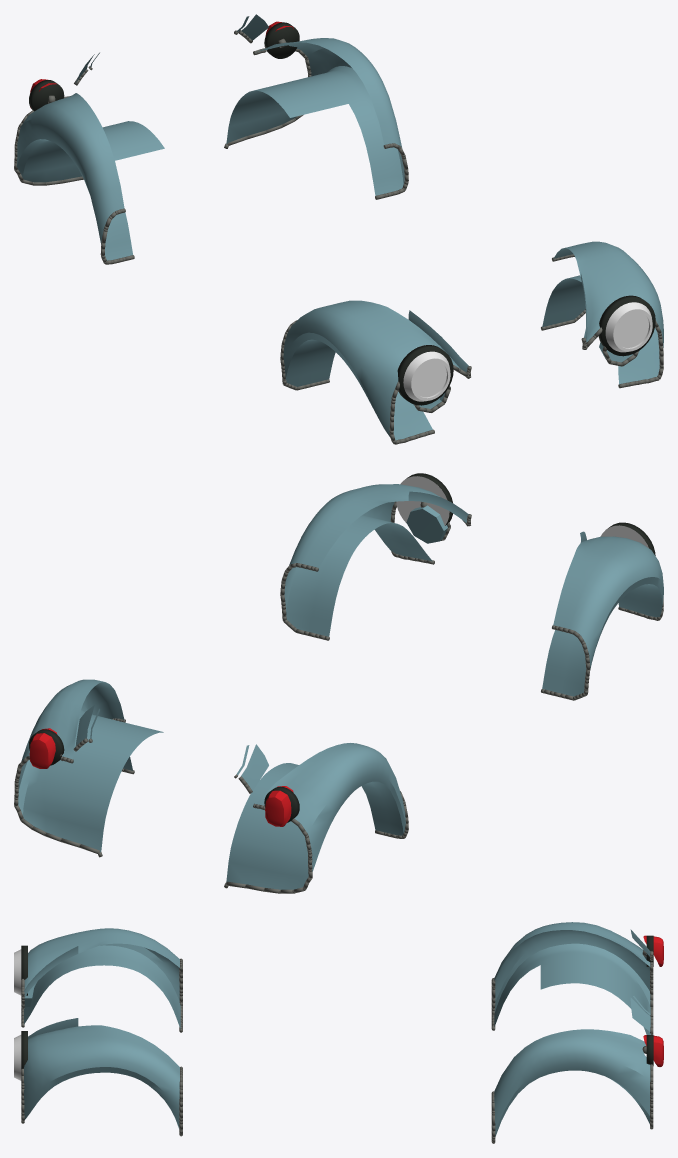
Rendered from PART_007_CutBajaFenders.glb.
The picture shows the model from 3 angles, top to bottom: view 1: azimuth 30°, elevation 25°; view 2: azimuth 150°, elevation 25°; view 3: azimuth 270°, elevation 25°; orthographic projection. The views are drawn at different scales.
Parts seen in each view (by area): view 1: BODY_BajaCut_Fender_FR_0, BODY_BajaCut_Fender_RL_0, BODY_BajaCut_Fender_RR_0, BODY_BajaCut_Fender_FL_0, EXTERIOR_BajaLamp_FL_1, EXTERIOR_BajaLamp_FR_1, EXTERIOR_BajaLamp_FR_0, EXTERIOR_BajaLamp_FL_0, EXTERIOR_BajaLampBucket_FL, EXTERIOR_BajaLampBucket_FR, EXTERIOR_BajaLampBucket_RL, TRIM_FenderEdge_FL_Front_0 (+2 smaller); view 2: BODY_BajaCut_Fender_RR_0, BODY_BajaCut_Fender_RL_0, BODY_BajaCut_Fender_FL_0, BODY_BajaCut_Fender_FR_0, EXTERIOR_BajaLamp_FL_1, TRIM_FenderEdge_RR_Back_0, TRIM_FenderEdge_RL_Back_0, EXTERIOR_BajaLamp_RR_1, EXTERIOR_BajaLamp_RL_1, TRIM_FenderEdge_FR_Back_0, TRIM_FenderEdge_FL_Back_0; view 3: BODY_BajaCut_Fender_RR_0, BODY_BajaCut_Fender_FL_0, BODY_BajaCut_Fender_RL_0, BODY_BajaCut_Fender_FR_0, EXTERIOR_BajaLamp_FR_1, EXTERIOR_BajaLamp_FL_1, EXTERIOR_BajaLamp_RL_1, TRIM_FenderEdge_RL_Back_0.
Boxes of the visible parts, box(x1,y1,x2,y2) form: BODY_BajaCut_Fender_FR_0: box(283, 300, 469, 440); BODY_BajaCut_Fender_RL_0: box(226, 14, 404, 195); BODY_BajaCut_Fender_RR_0: box(16, 52, 164, 260); BODY_BajaCut_Fender_FL_0: box(542, 241, 663, 384); EXTERIOR_BajaLamp_FL_1: box(605, 302, 652, 352); EXTERIOR_BajaLamp_FR_1: box(403, 351, 450, 401); EXTERIOR_BajaLamp_FR_0: box(413, 361, 446, 397); EXTERIOR_BajaLamp_FL_0: box(615, 312, 648, 347); EXTERIOR_BajaLampBucket_FL: box(598, 295, 655, 356); EXTERIOR_BajaLampBucket_FR: box(397, 345, 453, 405); EXTERIOR_BajaLampBucket_RL: box(264, 22, 299, 58); TRIM_FenderEdge_FL_Front_0: box(581, 320, 663, 388); BODY_BajaCut_Fender_RR_0: box(226, 743, 405, 889); BODY_BajaCut_Fender_RL_0: box(18, 679, 163, 852); BODY_BajaCut_Fender_FL_0: box(284, 484, 469, 636); BODY_BajaCut_Fender_FR_0: box(542, 531, 663, 696); EXTERIOR_BajaLamp_FL_1: box(396, 476, 449, 525); TRIM_FenderEdge_RR_Back_0: box(224, 774, 312, 893); TRIM_FenderEdge_RL_Back_0: box(14, 738, 102, 857); EXTERIOR_BajaLamp_RR_1: box(265, 786, 293, 826); EXTERIOR_BajaLamp_RL_1: box(29, 728, 56, 768); TRIM_FenderEdge_FR_Back_0: box(541, 625, 590, 700); TRIM_FenderEdge_FL_Back_0: box(280, 563, 329, 640); BODY_BajaCut_Fender_RR_0: box(494, 922, 650, 1034); BODY_BajaCut_Fender_FL_0: box(24, 1018, 179, 1128); BODY_BajaCut_Fender_RL_0: box(494, 996, 650, 1136); BODY_BajaCut_Fender_FR_0: box(23, 928, 180, 1028); EXTERIOR_BajaLamp_FR_1: box(14, 949, 21, 995); EXTERIOR_BajaLamp_FL_1: box(14, 1035, 21, 1080); EXTERIOR_BajaLamp_RL_1: box(643, 1035, 663, 1066); TRIM_FenderEdge_RL_Back_0: box(650, 1014, 653, 1129).
Bounding box in the file's own units: 1.56 × 0.6728 × 3.29.
